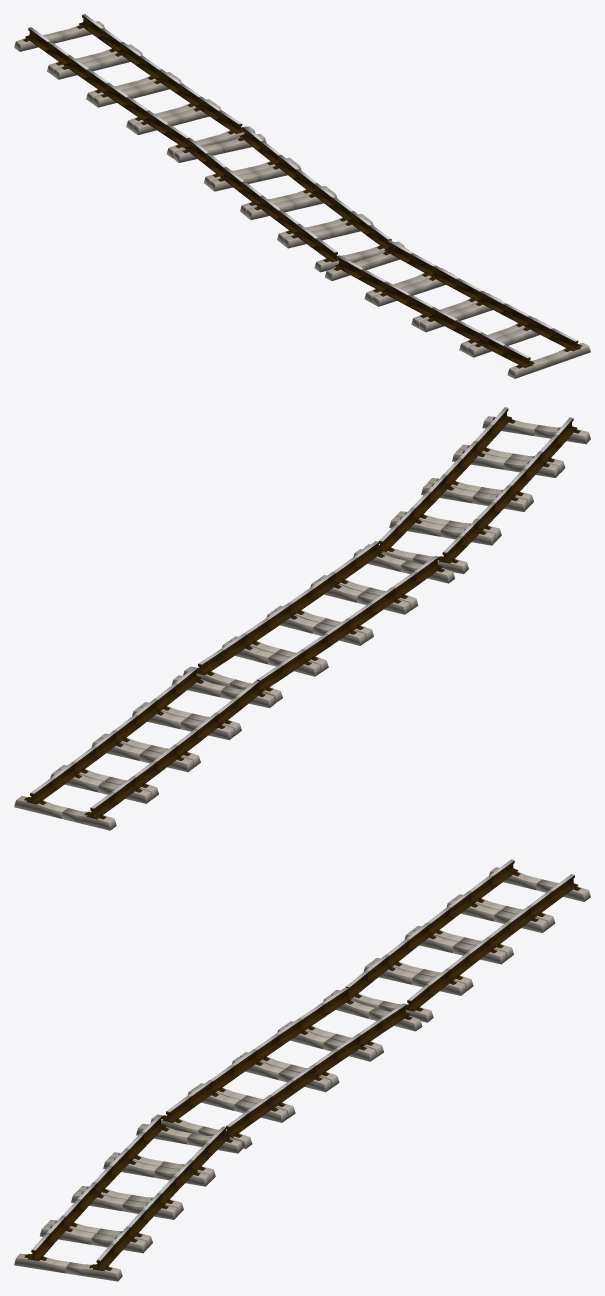
The model's file is trainTrack.fbx.
3 renders of one model, top to bottom at view 1: azimuth 30°, elevation 25°; view 2: azimuth 150°, elevation 25°; view 3: azimuth 330°, elevation 25°, orthographic. The views are drawn at different scales.
Visible parts, largest first — view 1: Track13; view 2: Track13; view 3: Track13.
Part boxes in pixels (box(x1,y1,x2,y2)): Track13: box(14, 14, 590, 378); Track13: box(14, 407, 590, 830); Track13: box(14, 859, 590, 1281).
Size of the model in its own units: 354 by 44.8 by 2314.
